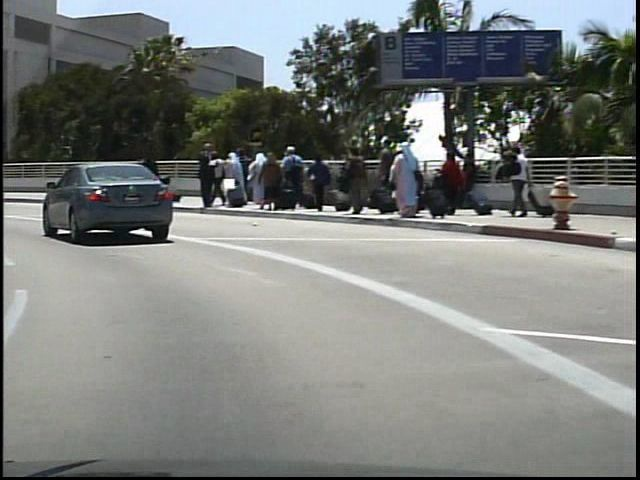person: (500, 139, 530, 222), (129, 148, 156, 212), (193, 140, 216, 215), (201, 148, 225, 208), (142, 153, 161, 196)
